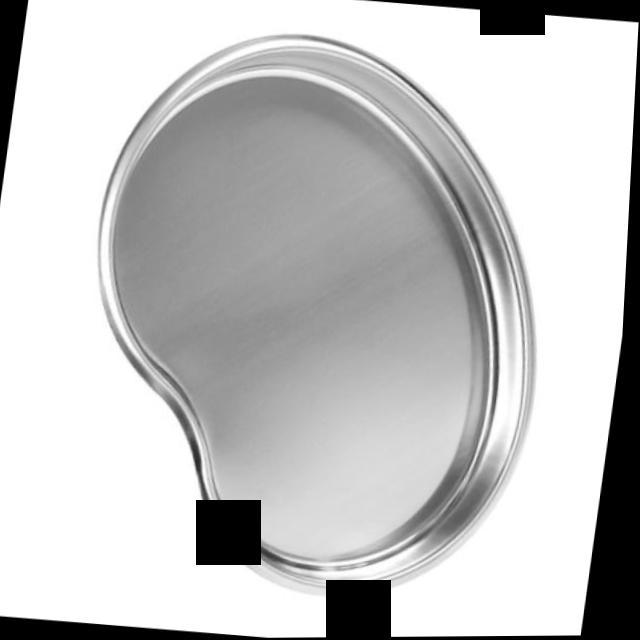Kidney Tray: (55, 16, 588, 618)
